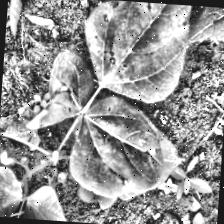ALS: (85, 0, 192, 88), (88, 114, 176, 206), (29, 52, 86, 132)
